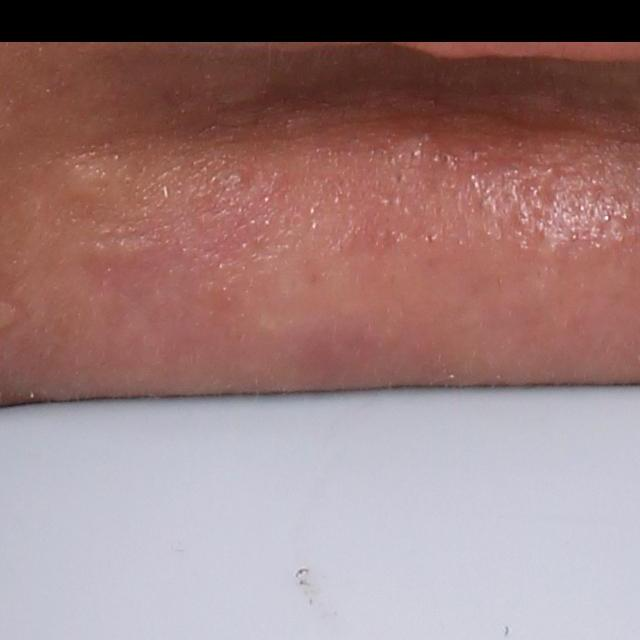hypertrophic_scar: (73, 227, 155, 265), (58, 158, 116, 200)
